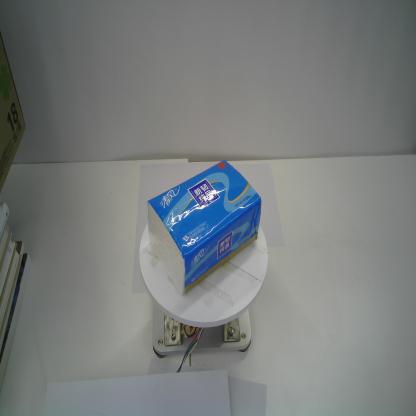Tissue: (147, 159, 262, 297)
